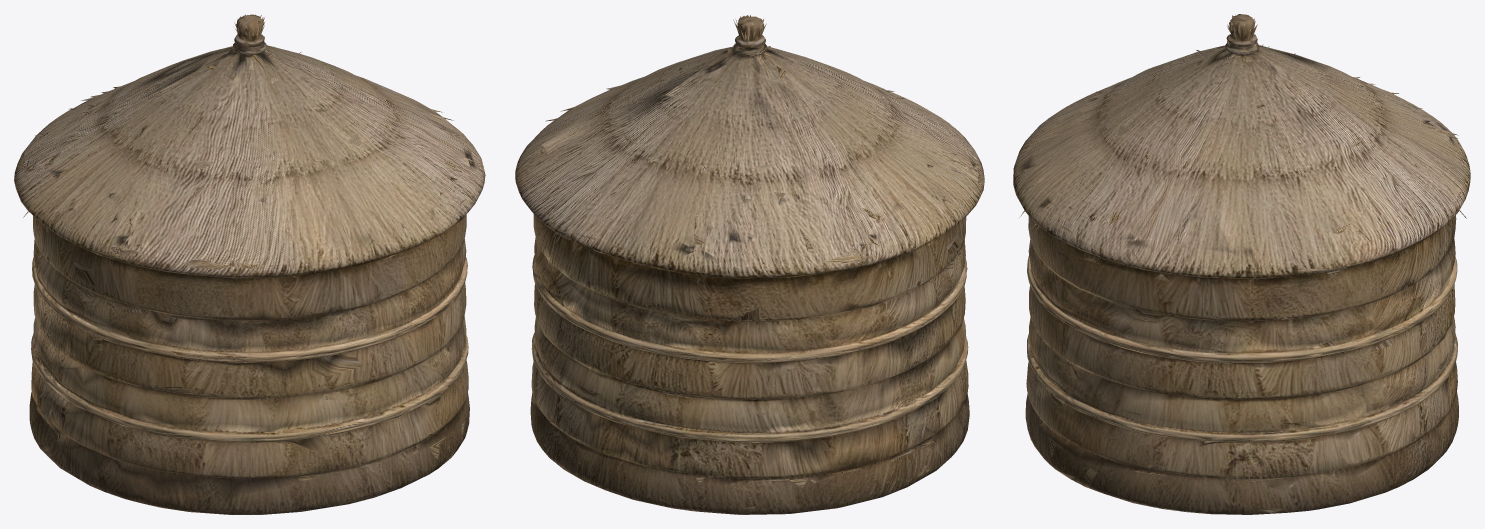
Rendered from heap_round_lod0.glb.
The picture shows the model from 3 angles, left to right: view 1: azimuth 30°, elevation 25°; view 2: azimuth 150°, elevation 25°; view 3: azimuth 270°, elevation 25°; orthographic projection.
Visible parts, largest first — view 1: node_0; view 2: node_0; view 3: node_0.
Part boxes in pixels (x1,y1,x2,y2): node_0: [14, 14, 485, 514]; node_0: [515, 15, 984, 514]; node_0: [1013, 14, 1470, 514].
Size of the model in its own units: 3.29 by 3.14 by 3.18.
Materials: 1 (1 with a texture image).
